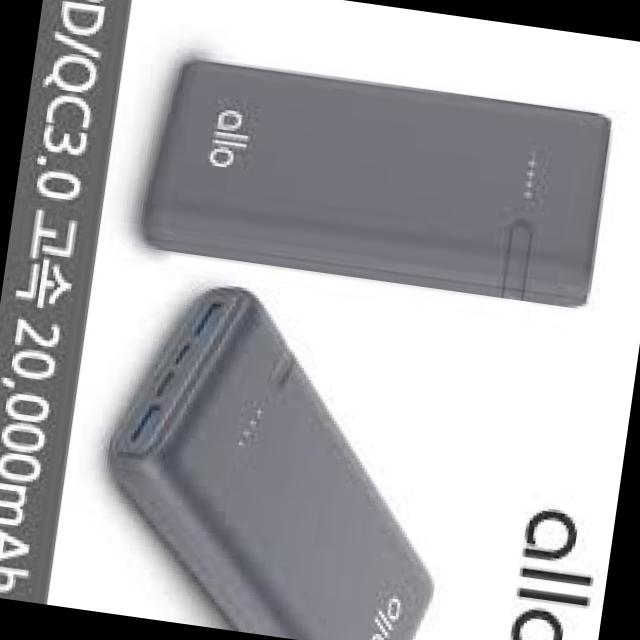portable-charger: (83, 268, 478, 640), (132, 48, 618, 314)
